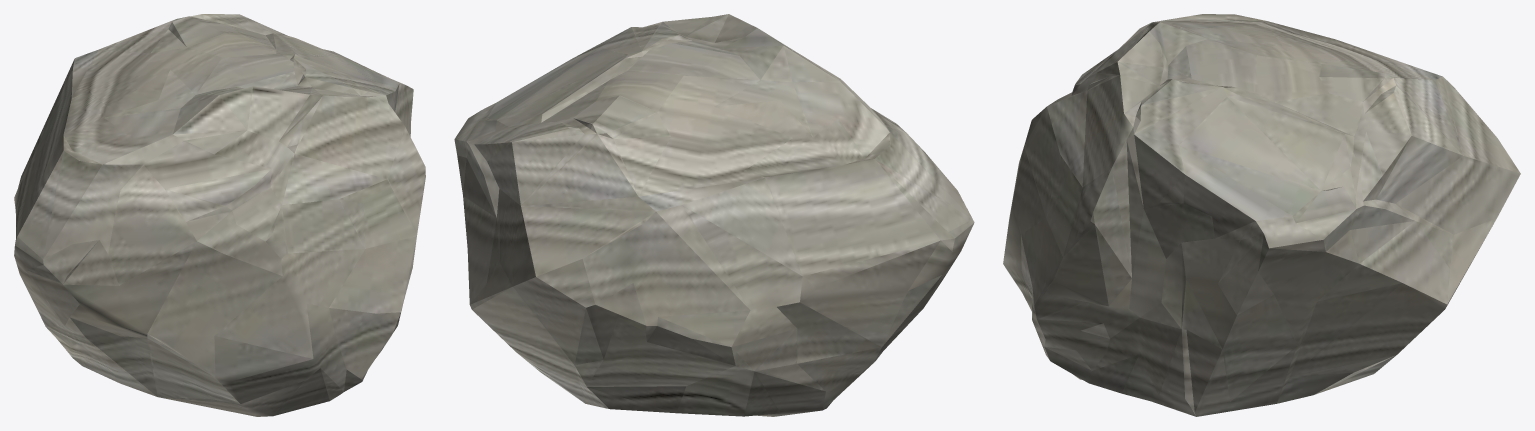
File: rock_2.glb
3 renders of one model, left to right at view 1: azimuth 30°, elevation 25°; view 2: azimuth 150°, elevation 25°; view 3: azimuth 270°, elevation 25°, orthographic. The views are drawn at different scales.
Bounding box in the file's own units: 1.89 × 1.27 × 1.85.
1 material, 1 textured.
